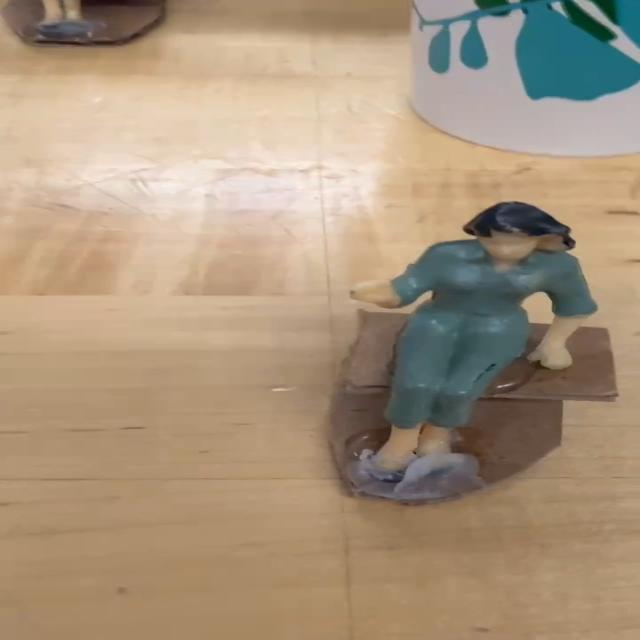Authorized: (324, 188, 608, 494)
